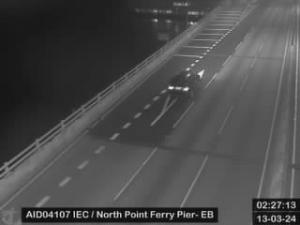vehicle: (168, 72, 202, 96)
